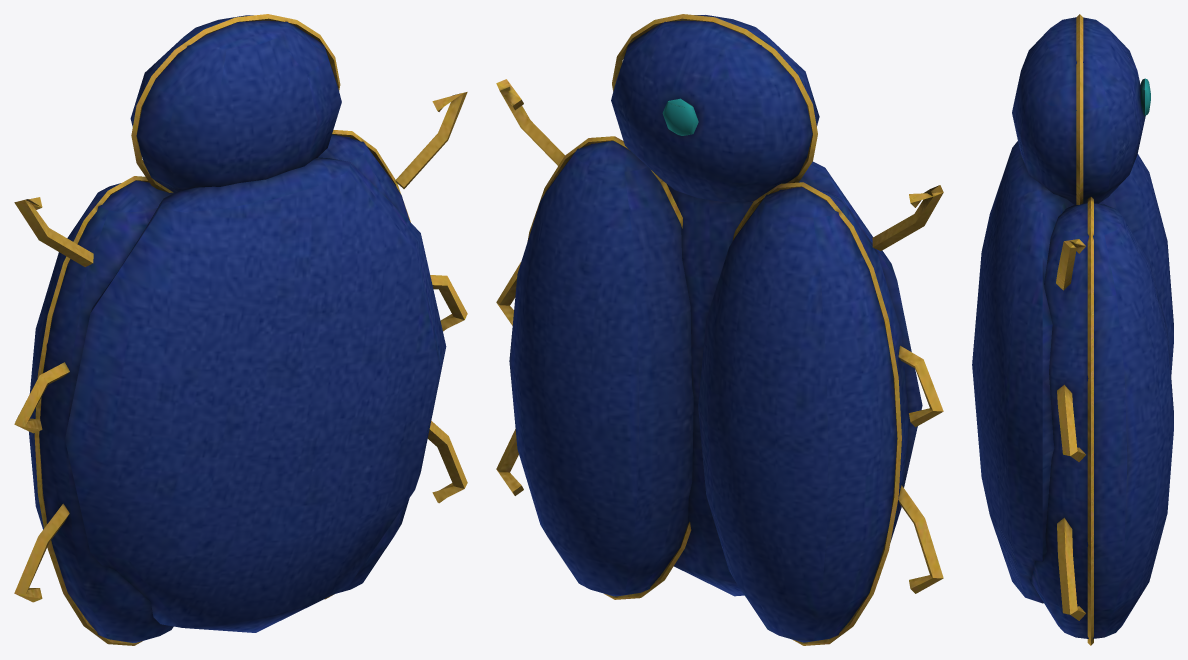
3 views of the same model, side by side, from view 1: azimuth 30°, elevation 25°; view 2: azimuth 150°, elevation 25°; view 3: azimuth 270°, elevation 25° (orthographic). The views are drawn at different scales.
Visible parts, largest first — view 1: Deep_lapis_with_fine_mineral_flecks, Fine_polished_gold_edging; view 2: Deep_lapis_with_fine_mineral_flecks, Fine_polished_gold_edging, Turquoise_enamel_head_inlay; view 3: Deep_lapis_with_fine_mineral_flecks, Fine_polished_gold_edging, Turquoise_enamel_head_inlay.
Boxes of the visible parts, bbox=[...] form: Deep_lapis_with_fine_mineral_flecks: bbox=[29, 15, 446, 642]; Fine_polished_gold_edging: bbox=[14, 14, 467, 645]; Deep_lapis_with_fine_mineral_flecks: bbox=[509, 15, 922, 642]; Fine_polished_gold_edging: bbox=[496, 14, 943, 645]; Turquoise_enamel_head_inlay: bbox=[662, 98, 698, 135]; Deep_lapis_with_fine_mineral_flecks: bbox=[972, 17, 1173, 638]; Fine_polished_gold_edging: bbox=[1056, 14, 1093, 645]; Turquoise_enamel_head_inlay: bbox=[1140, 78, 1150, 115].
Size of the model in its own units: 0.7787 by 1 by 0.3196.
Materials: 3 (3 with a texture image).
